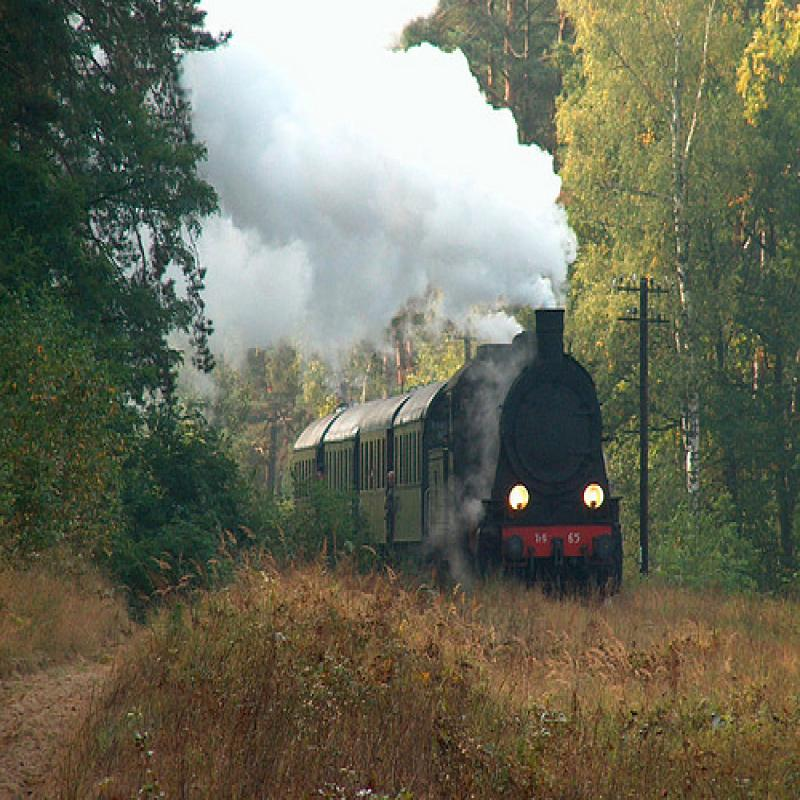train: (297, 311, 625, 608)
